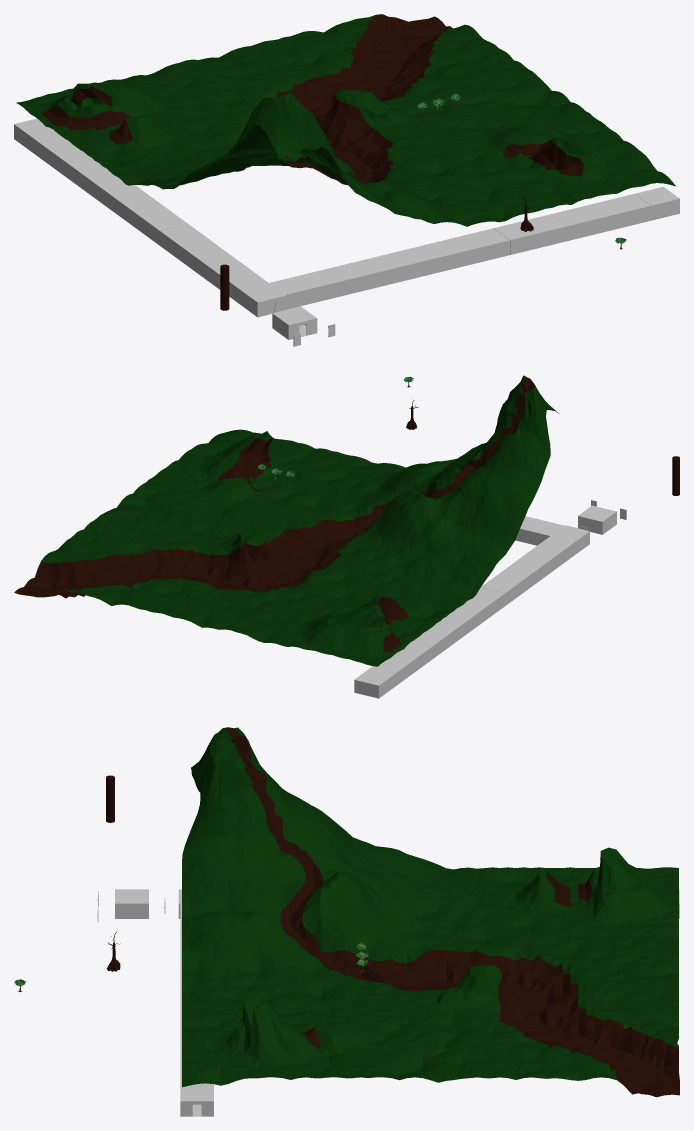
File: humanSize.obj
3 views of the same model, one above another, from view 1: azimuth 30°, elevation 25°; view 2: azimuth 150°, elevation 25°; view 3: azimuth 270°, elevation 25° (orthographic). The views are drawn at different scales.
Parts seen in each view (by area): view 1: Plane.001, Cube.013, Cube.024, Cube.025, Cube.027, Cube.031, Cube.037, Cube.035, Cube.032, Cube.034, Cube.036, Cube.030 (+19 smaller); view 2: Plane.001, Cube.023, Cube.037, Cube.014, Cube.013, Cube.011, Cube.012, Cube.009, Cube.010, Cube.015, Cube.022, Cube.017 (+2 smaller); view 3: Plane.001, Cube.024.
Part boxes in pixels (x1,y1,x2,y2): Plane.001: (16, 14, 675, 226); Cube.013: (241, 283, 286, 317); Cube.024: (635, 187, 679, 220); Cube.025: (607, 193, 651, 227); Cube.027: (551, 207, 595, 241); Cube.031: (437, 235, 481, 268); Cube.037: (270, 276, 314, 309); Cube.035: (326, 262, 369, 295); Cube.032: (409, 242, 453, 275); Cube.034: (354, 255, 398, 289); Cube.036: (298, 269, 341, 302); Cube.030: (465, 228, 509, 261); Plane.001: (14, 375, 558, 666); Cube.023: (354, 669, 392, 698); Cube.037: (525, 519, 563, 545); Cube.014: (481, 577, 519, 605); Cube.013: (551, 525, 589, 554); Cube.011: (509, 556, 547, 585); Cube.012: (495, 566, 533, 595); Cube.009: (537, 536, 575, 564); Cube.010: (523, 546, 561, 574); Cube.015: (472, 587, 504, 616); Cube.022: (369, 660, 406, 687); Cube.017: (442, 609, 476, 636); Plane.001: (182, 727, 679, 1097); Cube.024: (180, 1087, 213, 1116).
Bounding box in the file's own units: 439 × 168 × 499.
